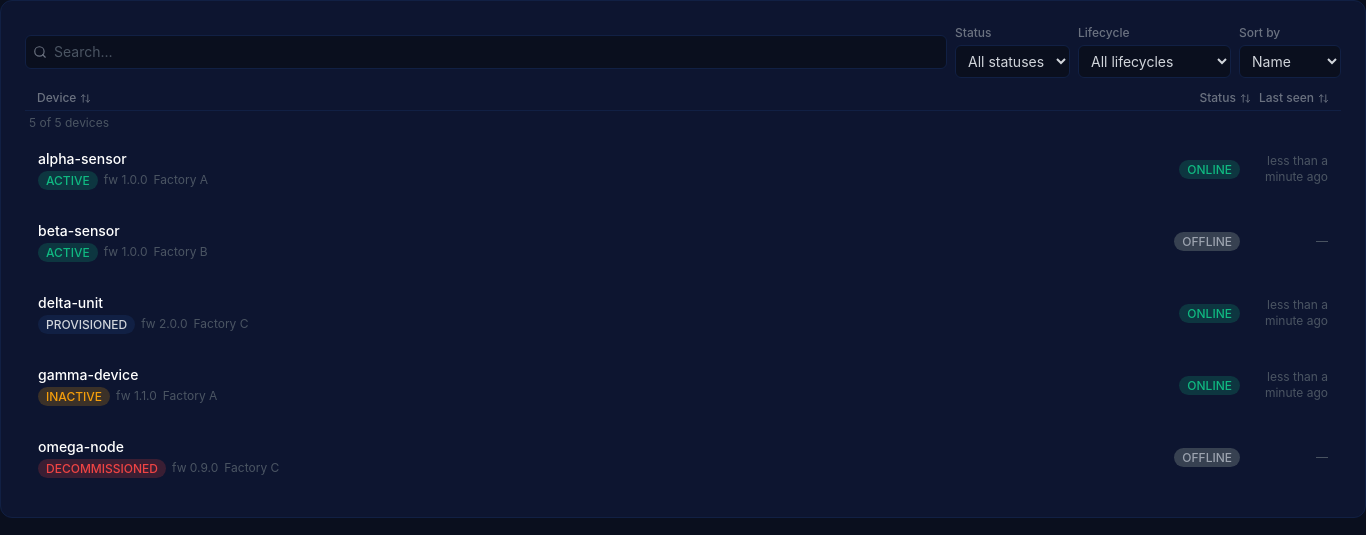
Test: status filter shows only ONLINE devices
The width and height of the screenshot is (1366, 535).
Select "Online" in the dropdown labelled "Status" at (1012, 62), box [955,45,1070,78]
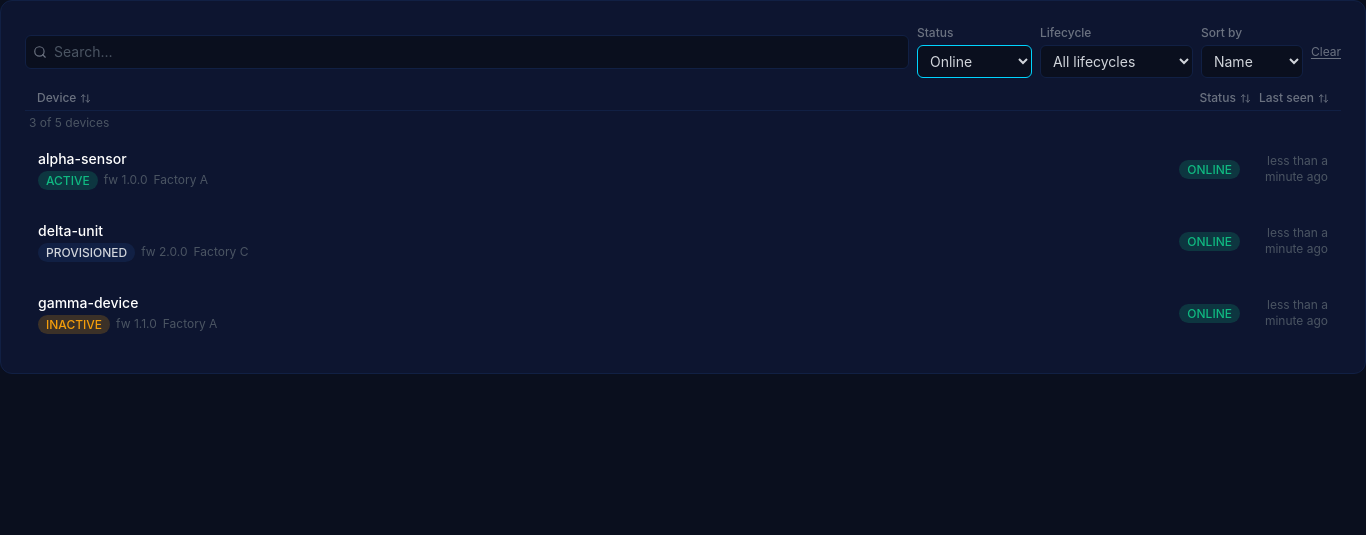
Expected: the text "alpha-sensor" is shown, [38,150,127,166]
Expected: the text "beta-sensor" is gone
